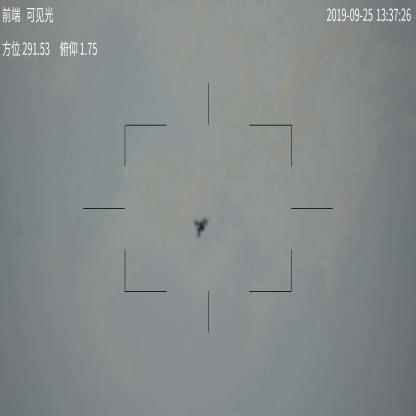uav: (195, 217, 211, 238)
